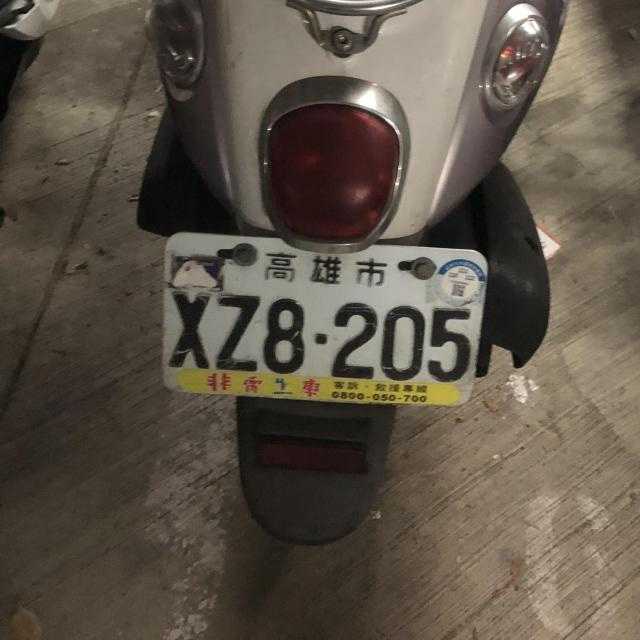W: (148, 222, 497, 423)
